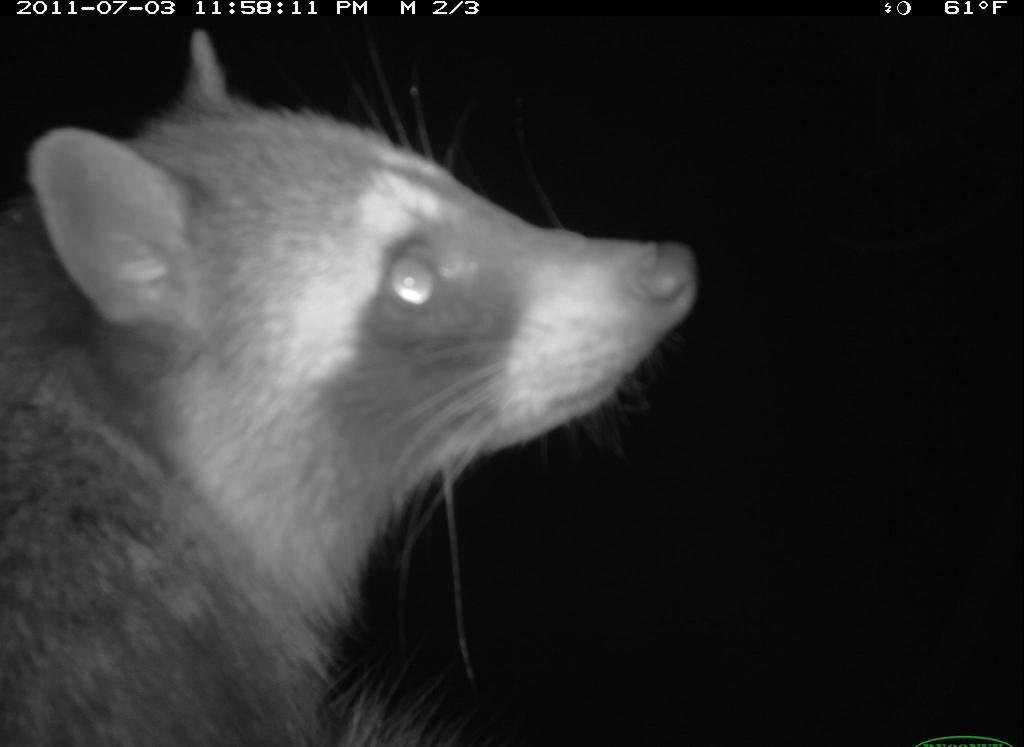raccoon: (3, 30, 708, 747)
